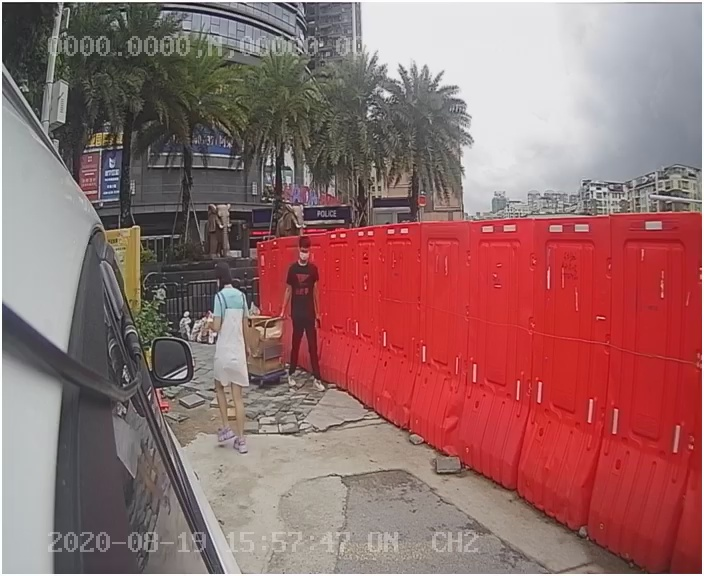person: (195, 263, 266, 458)
